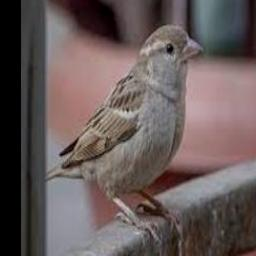Sparrow: (45, 24, 205, 241)
